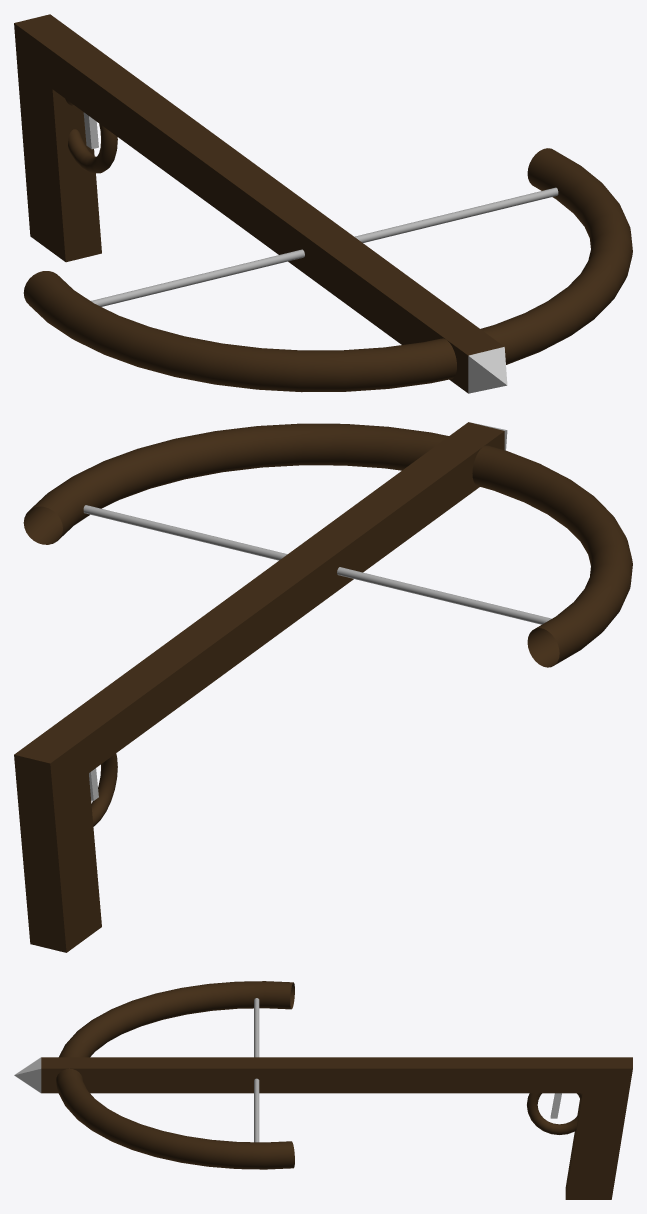
The model's file is crossbow 1.fbx.
3 views of the same model, one above another, from view 1: azimuth 30°, elevation 25°; view 2: azimuth 150°, elevation 25°; view 3: azimuth 270°, elevation 25° (orthographic). The views are drawn at different scales.
Parts seen in each view (by area): view 1: limbs, stock, Box, string, stirrup, Torus; view 2: limbs, stock, Box, string, Torus; view 3: stock, limbs, Box, Torus, string, stirrup.
Part boxes in pixels (x1,y1,x2,y2): limbs: [23, 148, 632, 392]; stock: [49, 40, 504, 393]; Box: [14, 14, 101, 262]; string: [91, 187, 558, 306]; stirrup: [468, 347, 507, 393]; Torus: [65, 99, 117, 173]; limbs: [23, 423, 632, 667]; stock: [50, 422, 504, 774]; Box: [14, 728, 101, 952]; string: [83, 505, 551, 624]; Torus: [91, 753, 117, 826]; stock: [41, 1057, 586, 1093]; limbs: [56, 981, 294, 1169]; Box: [565, 1057, 632, 1199]; Torus: [527, 1093, 582, 1134]; string: [254, 998, 259, 1142]; stirrup: [14, 1057, 41, 1092].
Size of the model in its own units: 14.99 by 5.31 by 22.69.
